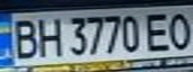0: (121, 11, 142, 54)
3: (63, 14, 87, 56)
7: (84, 12, 106, 55), (103, 11, 124, 54)
B: (6, 16, 42, 60)
E: (142, 9, 175, 53)
H: (33, 14, 63, 58)
O: (163, 9, 193, 51)
